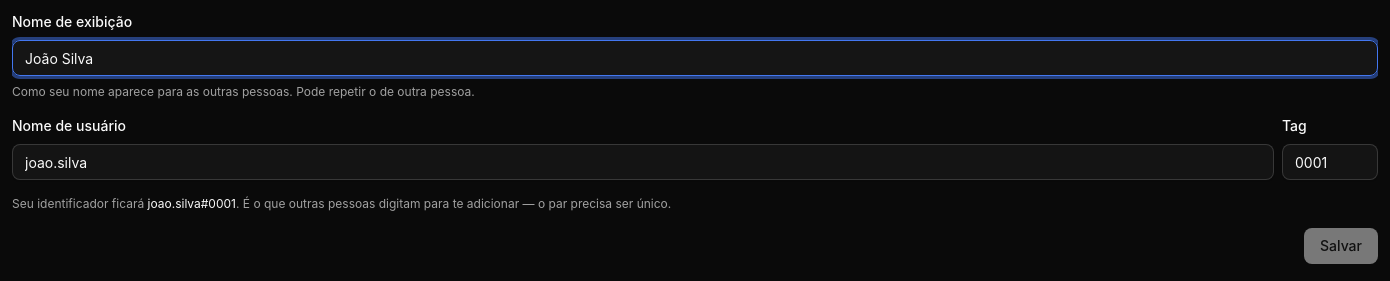
EditProfileForm › mostra a prévia do identificador canonizado enquanto se digita
Type "João Neves" into the field labelled "Nome de usuário".
click(643, 162); type("João Neves")  # box [12,144,1274,180]
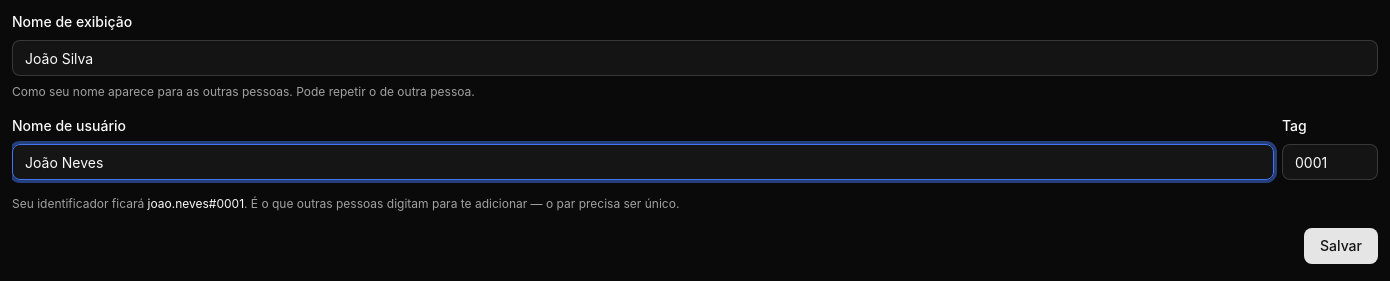
Now the text "joao.neves#0001" is shown, box [148,196,244,211]
